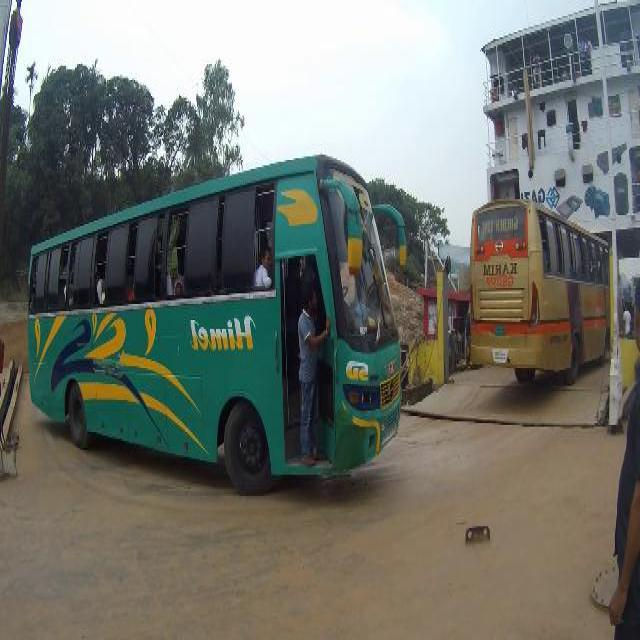Bus: (29, 156, 406, 493), (472, 183, 608, 405)
